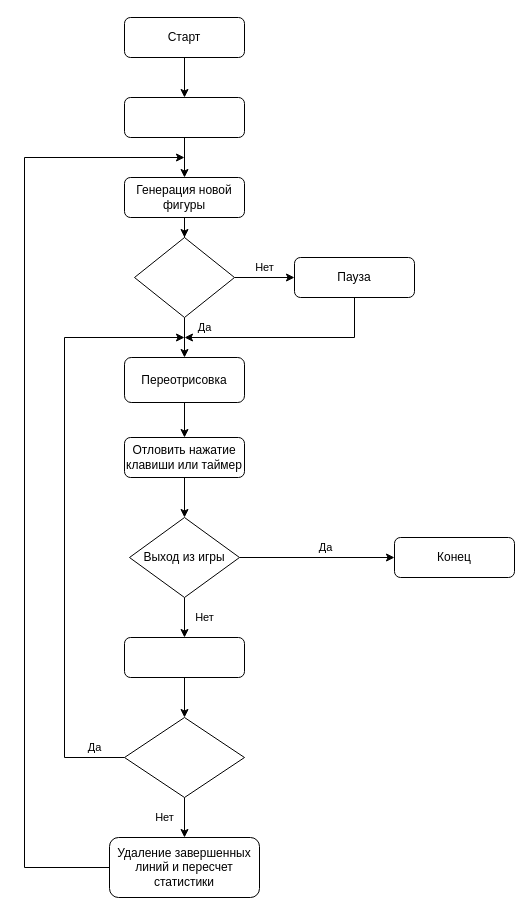
The diagram is 532 pixels wide and 915 high, and some of its shapes have lost their labels. The shapes that lost their labels are listed below. From the top down, each one's centre as x and y in pixels, then its label:
the point at 184,117: Отрисовка границ
the point at 184,277: Генерация возможна?
the point at 184,657: Попытка смещения фигуры
the point at 184,757: Движение дальше возможно?
